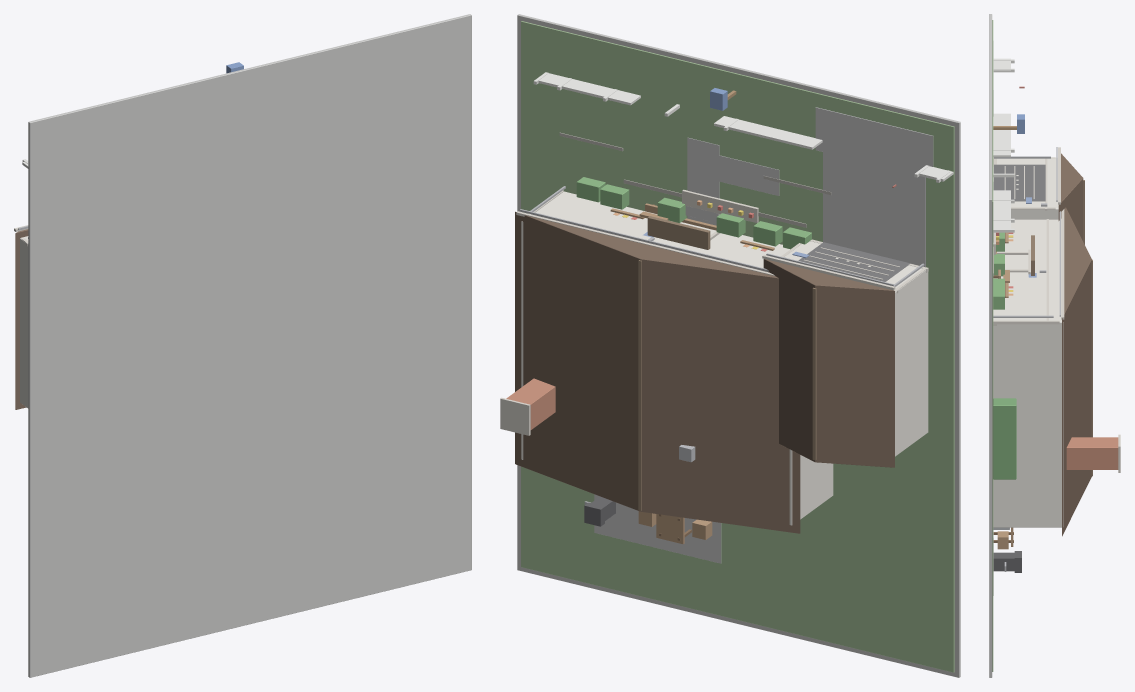
File: personalhouse_ranch.fbx
3 renders of one model, left to right at view 1: azimuth 30°, elevation 25°; view 2: azimuth 150°, elevation 25°; view 3: azimuth 270°, elevation 25°, orthographic. The views are drawn at different scales.
Visible parts, largest first — view 1: GroundBase, Garage_Left, Roof_DarkBrown_Garage; view 2: YardGrass, Roof_DarkBrown_Main, Roof_DarkBrown_Garage, Driveway_Left, GroundBase, MainBody_WhiteSiding, Garage_Left, Driveway_Apron, BackPatio, GarageDoor, Walkway_SideJoin, Walkway_FrontDoor (+11 smaller); view 3: MainBody_WhiteSiding, Roof_DarkBrown_Main, GroundBase, SideHedge_Right, Chimney_Brick, GarageDoor, Garage_Left, YardGrass, Roof_DarkBrown_Garage, FrontFence_MidSection, FrontFence_RightSection, MainBody_Fascia_Front (+8 smaller).
Boxes of the visible parts, x1,y1,x2,y2 form: GroundBase: [28, 14, 471, 677]; Garage_Left: [20, 236, 28, 408]; Roof_DarkBrown_Garage: [15, 229, 28, 409]; YardGrass: [521, 21, 954, 672]; Roof_DarkBrown_Main: [515, 211, 800, 533]; Roof_DarkBrown_Garage: [763, 259, 894, 467]; Driveway_Left: [823, 121, 925, 267]; GroundBase: [517, 14, 960, 677]; MainBody_WhiteSiding: [521, 191, 833, 525]; Garage_Left: [784, 241, 928, 456]; Driveway_Apron: [815, 107, 933, 173]; BackPatio: [594, 494, 721, 563]; GarageDoor: [798, 242, 910, 281]; Walkway_SideJoin: [701, 151, 779, 195]; Walkway_FrontDoor: [687, 137, 719, 225]; MainBody_WhiteSiding: [993, 219, 1063, 527]; Roof_DarkBrown_Main: [1062, 207, 1091, 536]; GroundBase: [989, 14, 992, 677]; SideHedge_Right: [993, 398, 1016, 479]; Chimney_Brick: [1066, 437, 1118, 469]; GarageDoor: [993, 164, 1045, 201]; Garage_Left: [997, 158, 1058, 219]; YardGrass: [992, 20, 993, 671]; Roof_DarkBrown_Garage: [1058, 153, 1083, 240]; FrontFence_MidSection: [993, 113, 1010, 157]; FrontFence_RightSection: [993, 190, 1010, 222]; MainBody_Fascia_Front: [1061, 209, 1064, 319].
Bounding box in the file's own units: 1500 × 1800 × 448.
